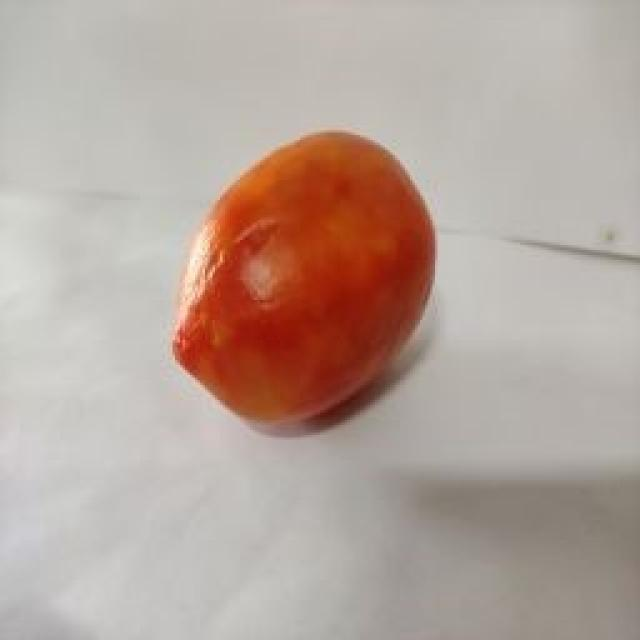Ripe: (166, 118, 441, 436)
